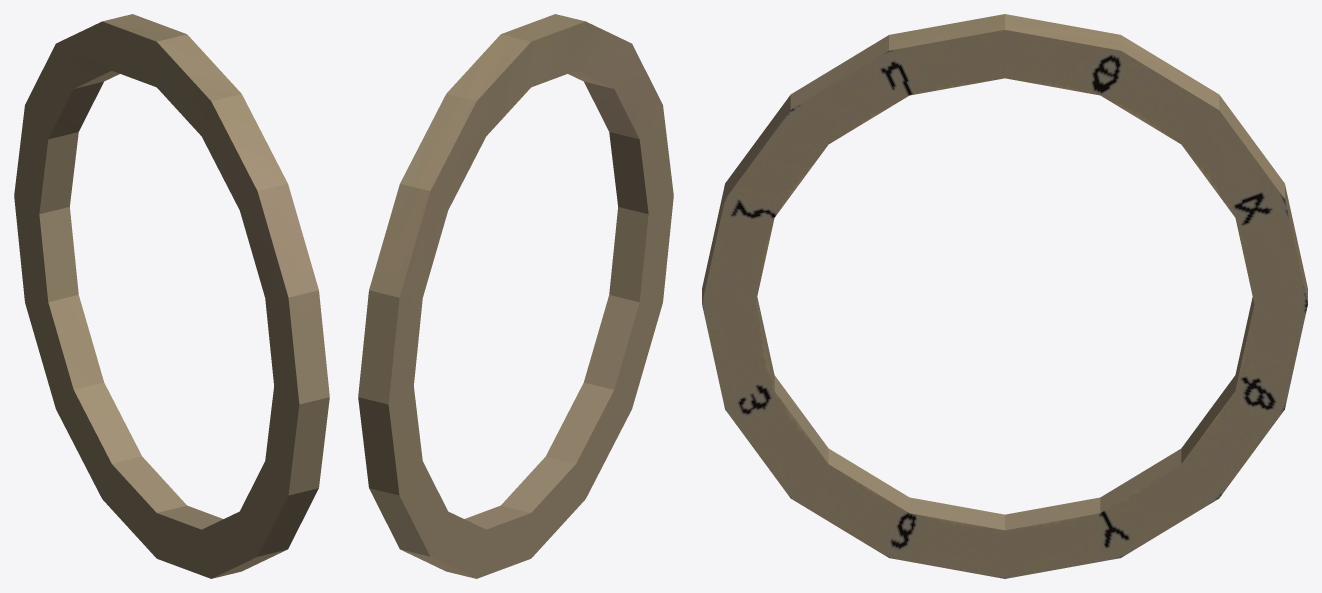
The model's file is telescope puzzle2.fbx.
3 renders of one model, left to right at view 1: azimuth 30°, elevation 25°; view 2: azimuth 150°, elevation 25°; view 3: azimuth 270°, elevation 25°, orthographic. The views are drawn at different scales.
Parts seen in each view (by area): view 1: telescope puzzle2; view 2: telescope puzzle2; view 3: telescope puzzle2.
Boxes of the visible parts, <box> form: telescope puzzle2: <box>14,14,329,578</box>; telescope puzzle2: <box>358,14,673,578</box>; telescope puzzle2: <box>702,14,1307,578</box>.
Size of the model in its own units: 15 by 243 by 243.
